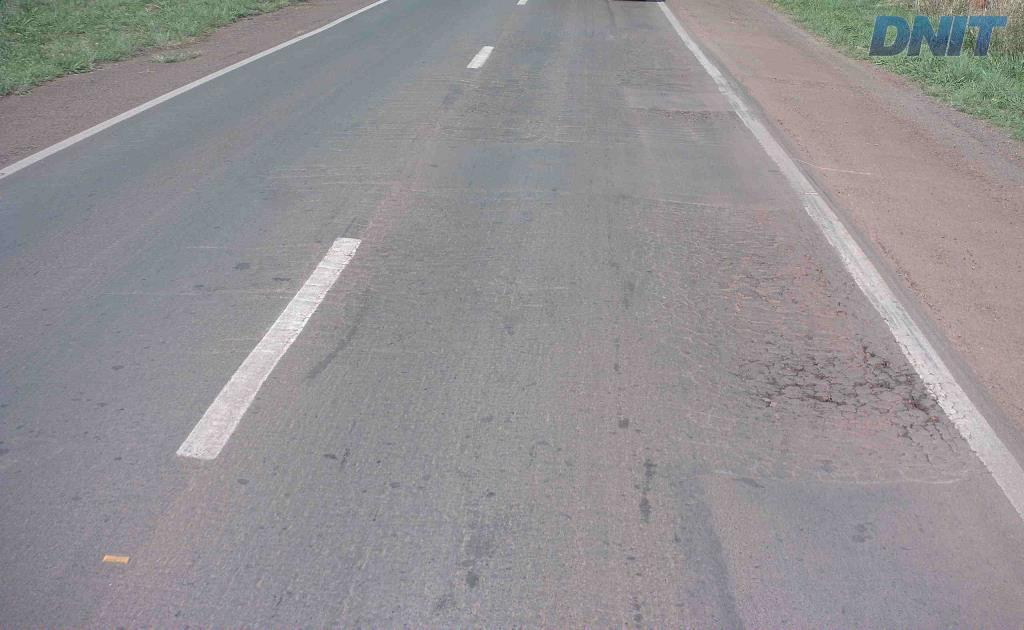crack: (755, 377, 844, 407)
